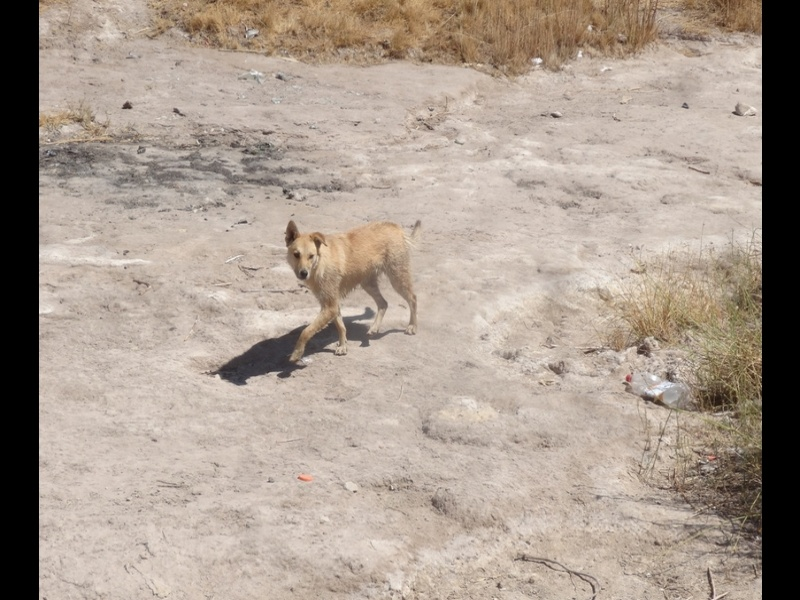dog: (279, 216, 422, 360)
